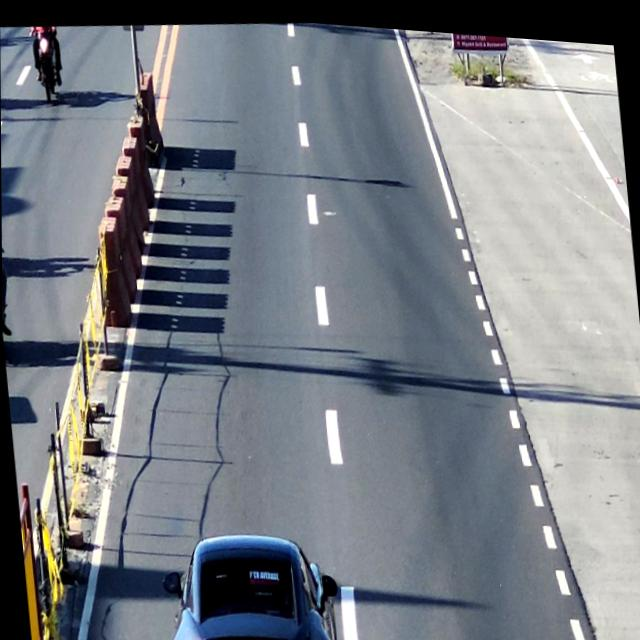Car: (156, 515, 337, 640)
